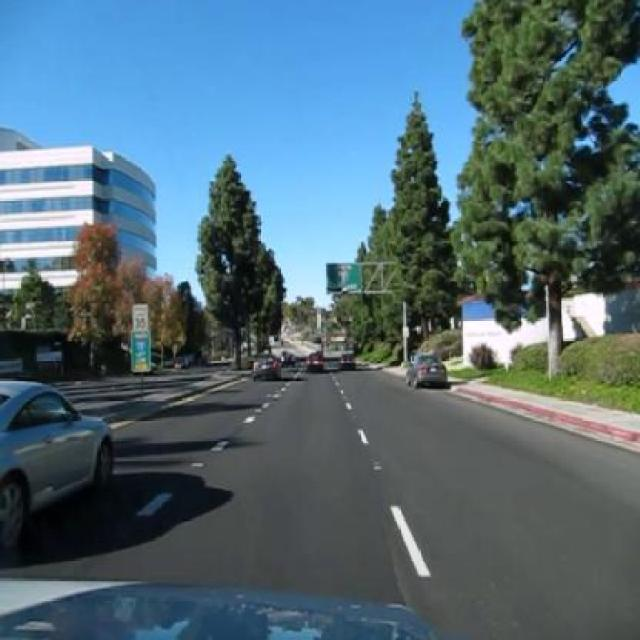speedLimit35: (130, 303, 148, 331)
